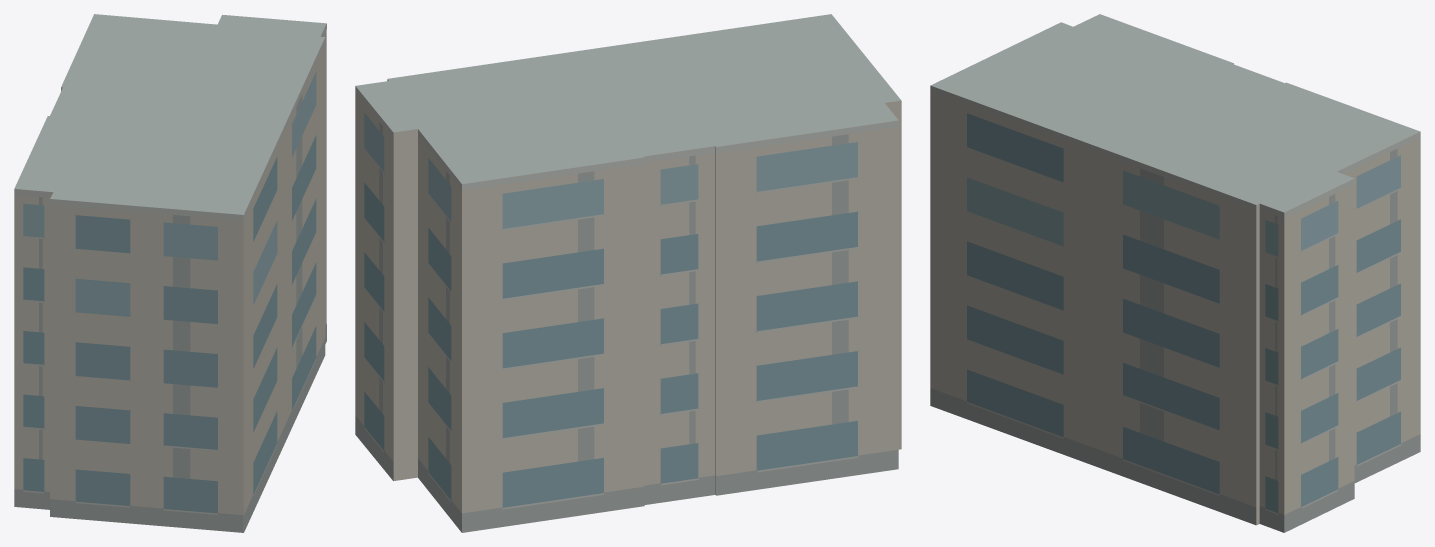
File: survey-upis-32941370.glb
The picture shows the model from 3 angles, left to right: view 1: azimuth 30°, elevation 25°; view 2: azimuth 150°, elevation 25°; view 3: azimuth 270°, elevation 25°; orthographic projection. The views are drawn at different scales.
Visible parts, largest first — view 1: survey-upis-32941370.tmp; view 2: survey-upis-32941370.tmp; view 3: survey-upis-32941370.tmp.
Boxes of the visible parts, box(x1,y1,x2,y2) form: survey-upis-32941370.tmp: box(14, 14, 326, 532); survey-upis-32941370.tmp: box(355, 14, 901, 532); survey-upis-32941370.tmp: box(930, 14, 1420, 532).
Size of the model in its own units: 17.63 by 13.25 by 18.39.
